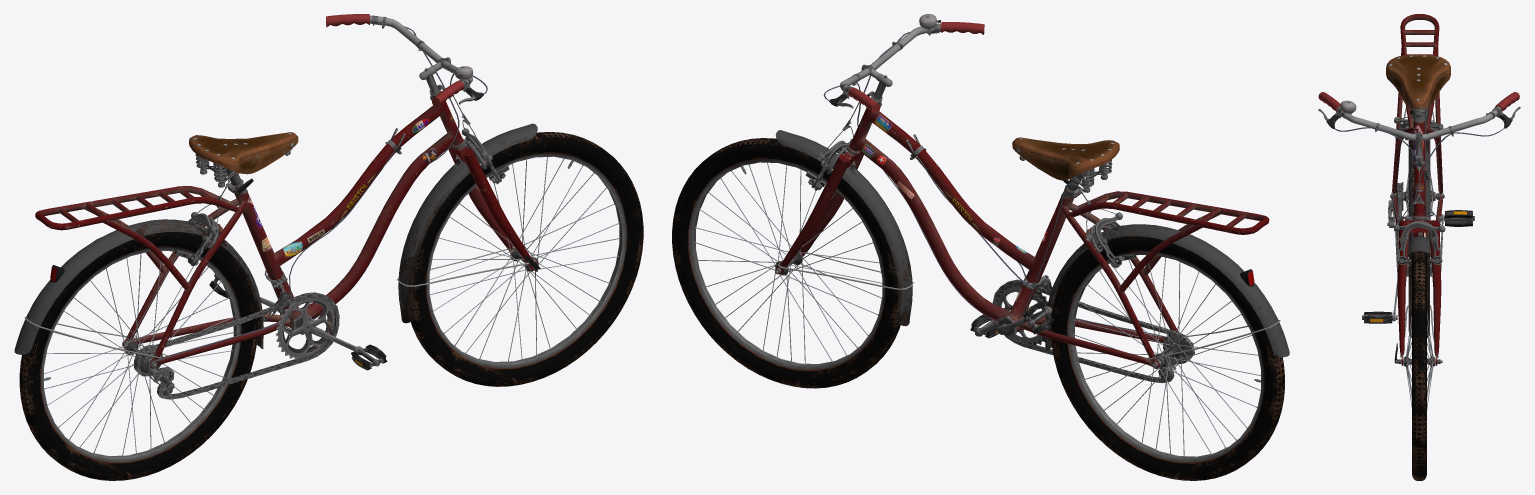
File: cp_bici_vintage.glb
The picture shows the model from 3 angles, left to right: view 1: azimuth 30°, elevation 25°; view 2: azimuth 150°, elevation 25°; view 3: azimuth 270°, elevation 25°; orthographic projection. The views are drawn at different scales.
Visible parts, largest first — view 1: rama_low; view 2: rama_low; view 3: rama_low.
Boxes of the visible parts, box(x1,y1,x2,y2) form: rama_low: box(14, 14, 643, 480); rama_low: box(672, 14, 1289, 480); rama_low: box(1318, 14, 1520, 480).
Bounding box in the file's own units: 906 × 511 × 290.
7 materials, 7 textured.
